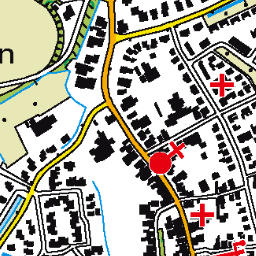church: (145, 139, 187, 178)
